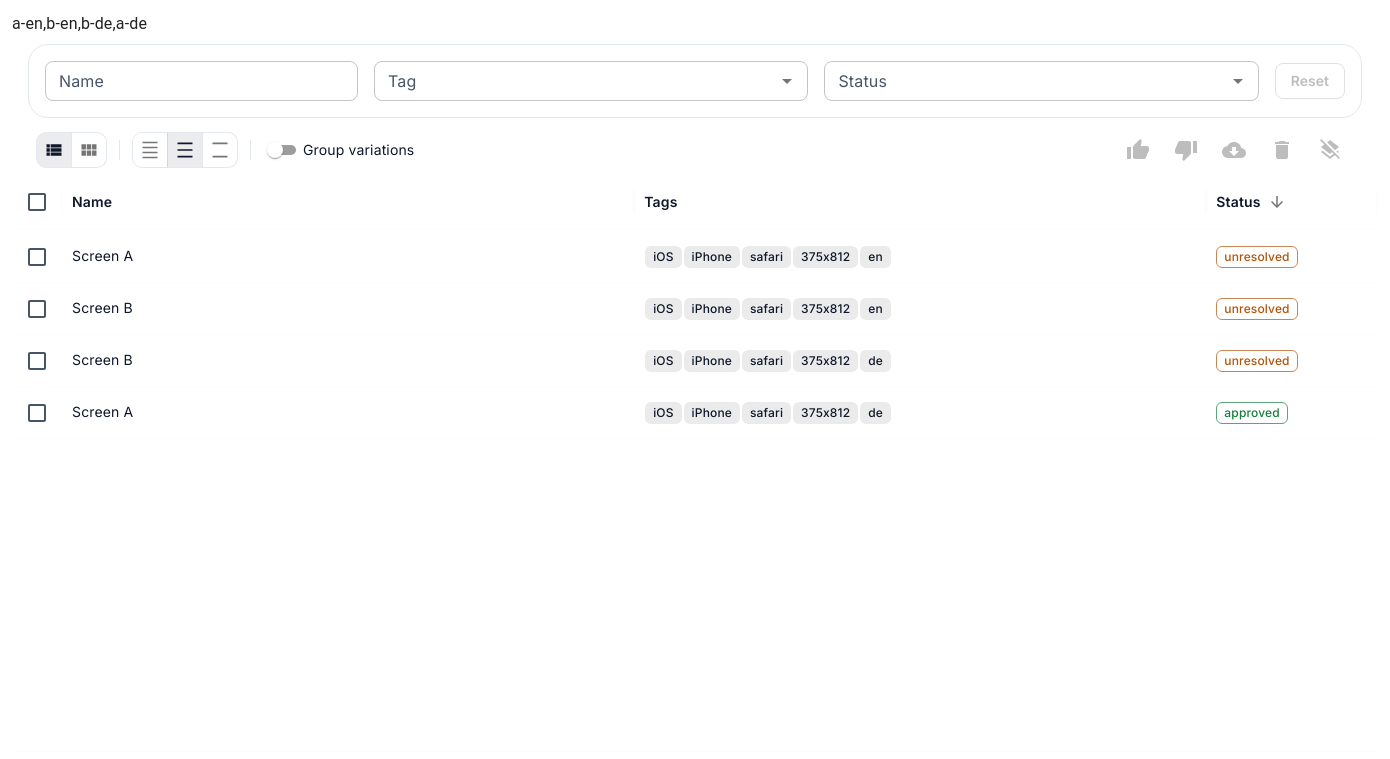
TestRunList grouping › publishes the groups expanded as the navigation order
This screenshot has width=1390, height=759.
Click the switch labelled "Group variations" at (339, 150), box [263,138,414,162]
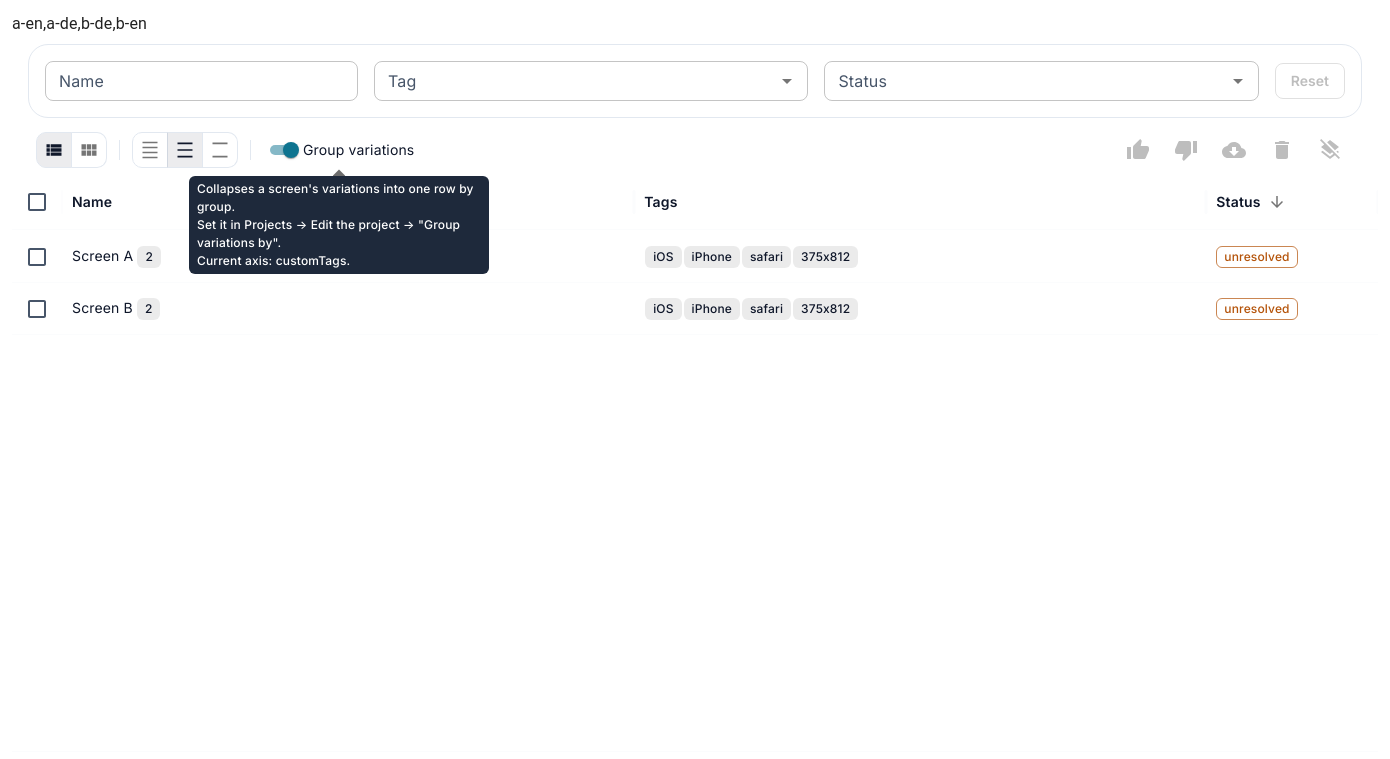
Result: the text with test id "navigationOrder" reads "a-en,a-de,b-de,b-en" at [12,14,147,33]
